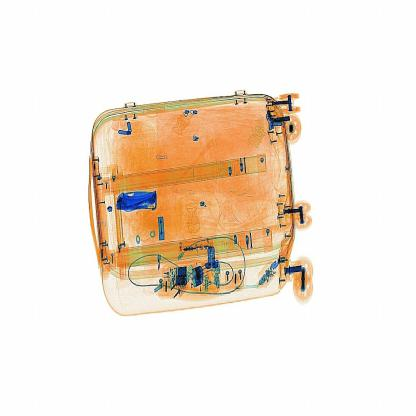knife: (108, 183, 163, 216)
